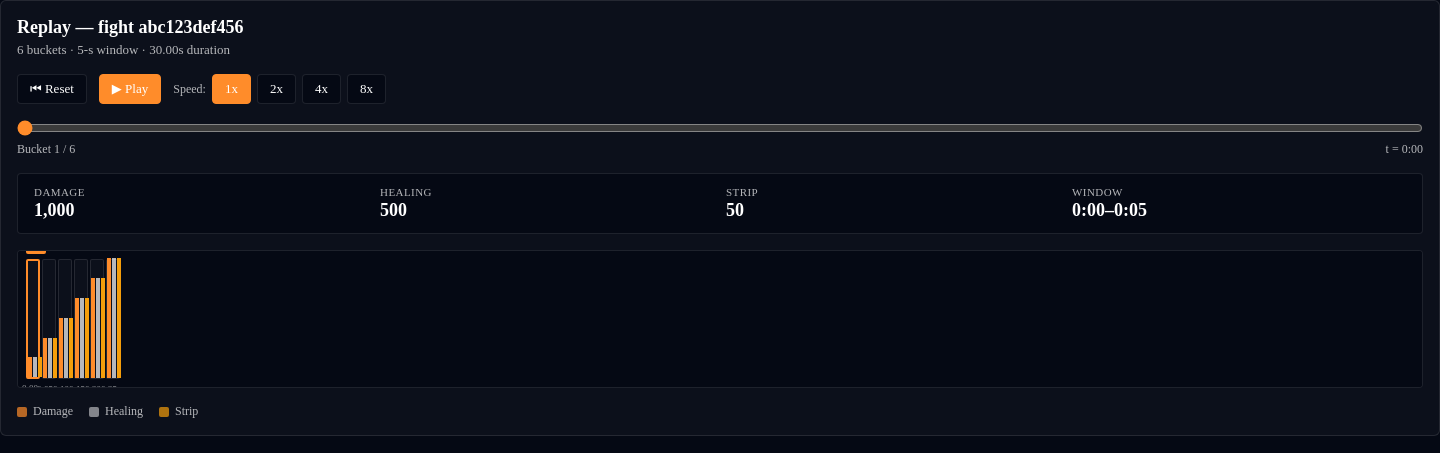
Test case: ReplayPlayer › speed toggle changes the intervalMs (8x advances 1 bucket every 625ms at 5s window)
# Click Play at default 1x.
Click the button with test id "replay-play-pause". click: (130, 89)
box: [99,74,161,104]
Wait 5000 ms
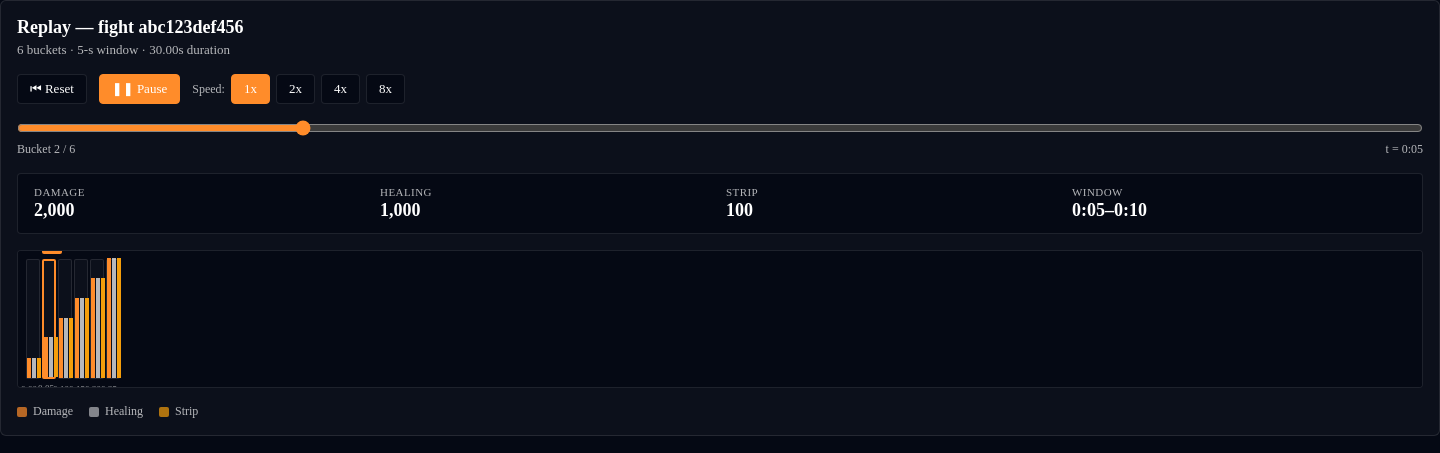
Expected: the text "Bucket 2 / 6" is shown, [17,142,75,157]
Click the button with test id "replay-speed-8x". click: (385, 89)
box: [366,74,405,104]
Wait 625 ms
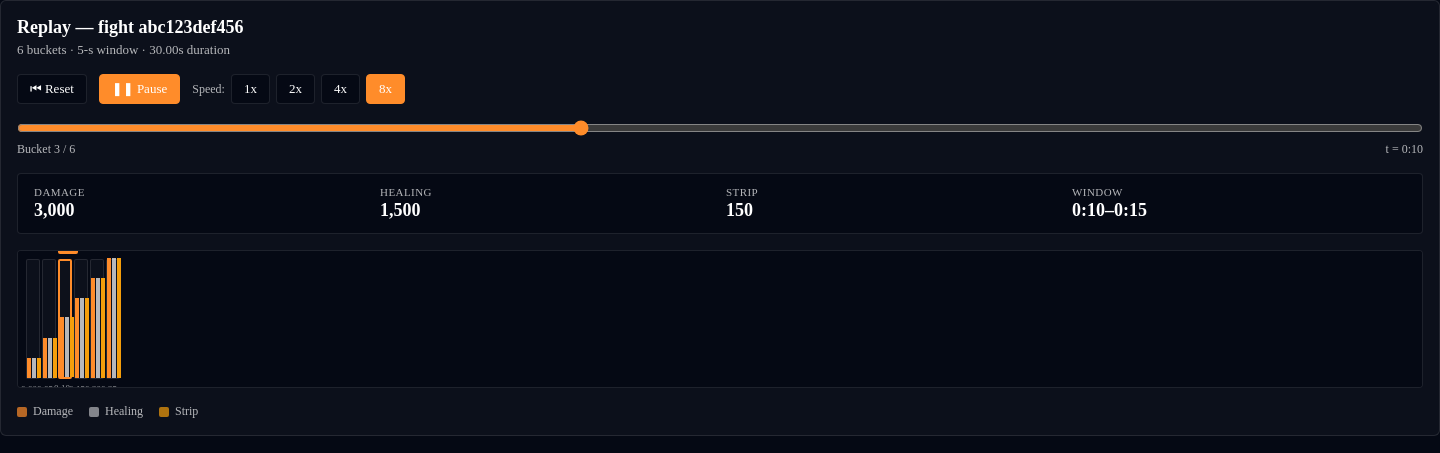
Expected: the text "Bucket 3 / 6" is shown, [17,142,75,157]
